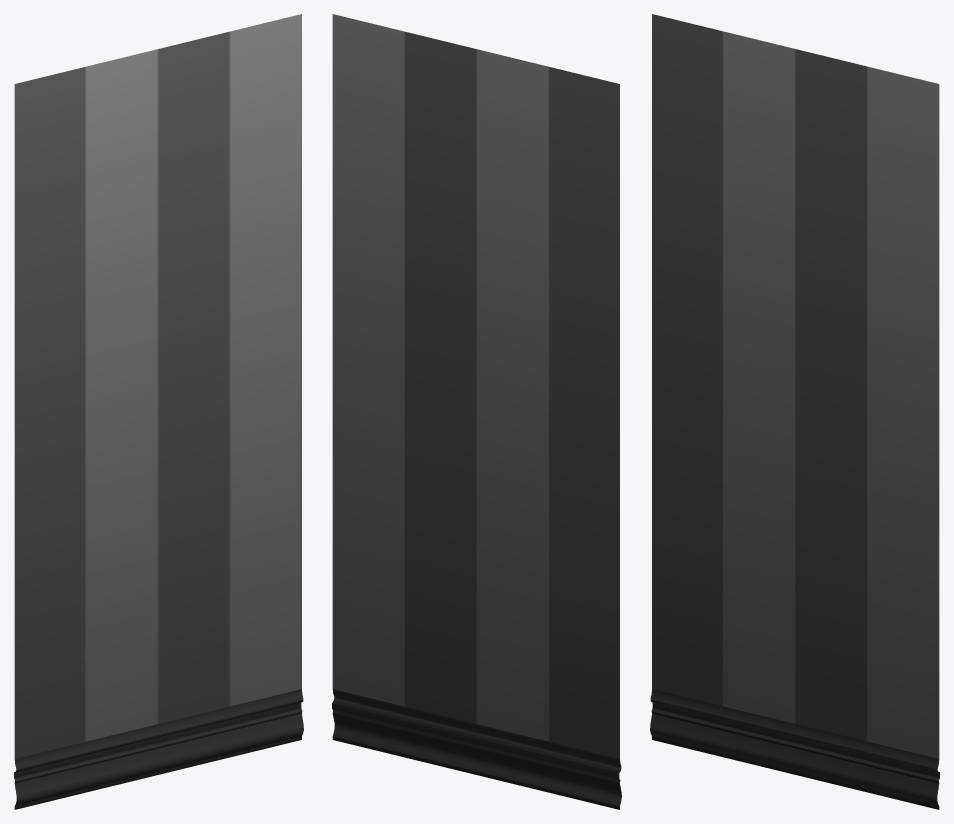
The model's file is Wall_03_Single_Extra.fbx.
3 renders of one model, left to right at view 1: azimuth 30°, elevation 25°; view 2: azimuth 150°, elevation 25°; view 3: azimuth 330°, elevation 25°, orthographic.
Visible parts, largest first — view 1: Wall_03_Single_extra; view 2: Wall_03_Single_extra; view 3: Wall_03_Single_extra.
Boxes of the visible parts, x1,y1,x2,y2 form: Wall_03_Single_extra: (14, 14, 303, 809); Wall_03_Single_extra: (332, 14, 621, 809); Wall_03_Single_extra: (650, 14, 939, 809).
Size of the model in its own units: 1.1 by 2.65 by 0.0178.
